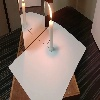fire: (47, 1, 52, 21)
